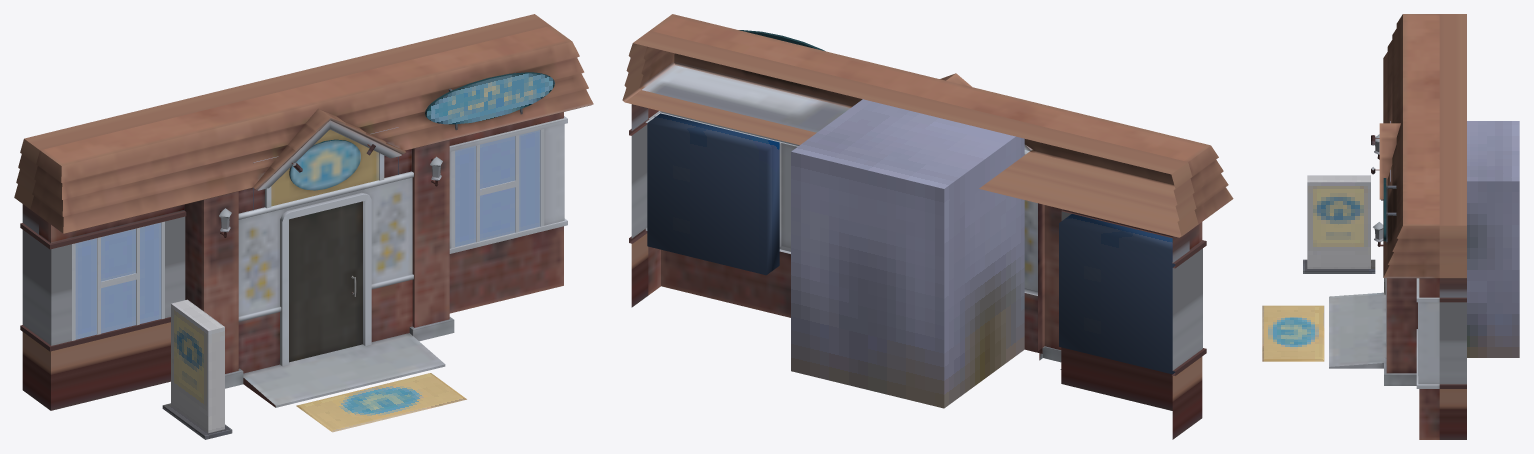
File: objects_un_motel01.gltf
The picture shows the model from 3 angles, left to right: view 1: azimuth 30°, elevation 25°; view 2: azimuth 150°, elevation 25°; view 3: azimuth 270°, elevation 25°; orthographic projection. The views are drawn at different scales.
Parts seen in each view (by area): view 1: nomerge_wall_shape:objects_un_motel01_obj01, nomerge_window_shape:objects_un_motel01_glass01, nomerge_door_shape:objects_un_motel01_obj01, nomerge_obj_shape:objects_un_motel01_obj01, nomerge_light_shape:objects_un_motel01_obj02, nomerge_obj_shape:objects_un_motel01_obj02, nomerge_sign_group_shape:objects_un_motel01_obj02, nomerge_window_shape:objects_un_motel01_obj02, nomerge_sign_group_shape:objects_un_motel01_obj01, nomerge_light_shape:objects_un_motel01_obj01; view 2: nomerge_wall_shape:objects_un_motel01_obj01, nomerge_objects_un_motel01_inside01_shape:objects_un_motel01, nomerge_window_shape:objects_un_motel01_obj02; view 3: nomerge_wall_shape:objects_un_motel01_obj01, nomerge_objects_un_motel01_inside01_shape:objects_un_motel01, nomerge_light_shape:objects_un_motel01_obj02, nomerge_obj_shape:objects_un_motel01_obj01, nomerge_obj_shape:objects_un_motel01_obj02, nomerge_light_shape:objects_un_motel01_obj01, nomerge_sign_group_shape:objects_un_motel01_obj02.
Boxes of the visible parts, bbox=[...] form: nomerge_wall_shape:objects_un_motel01_obj01: bbox=[14, 14, 593, 410]; nomerge_window_shape:objects_un_motel01_glass01: bbox=[75, 130, 540, 339]; nomerge_door_shape:objects_un_motel01_obj01: bbox=[289, 201, 362, 362]; nomerge_obj_shape:objects_un_motel01_obj01: bbox=[243, 333, 445, 407]; nomerge_light_shape:objects_un_motel01_obj02: bbox=[162, 299, 232, 439]; nomerge_obj_shape:objects_un_motel01_obj02: bbox=[296, 373, 466, 432]; nomerge_sign_group_shape:objects_un_motel01_obj02: bbox=[425, 72, 554, 130]; nomerge_window_shape:objects_un_motel01_obj02: bbox=[72, 129, 544, 340]; nomerge_sign_group_shape:objects_un_motel01_obj01: bbox=[289, 139, 360, 190]; nomerge_light_shape:objects_un_motel01_obj01: bbox=[219, 144, 442, 237]; nomerge_wall_shape:objects_un_motel01_obj01: bbox=[622, 14, 1233, 439]; nomerge_objects_un_motel01_inside01_shape:objects_un_motel01: bbox=[791, 99, 1024, 408]; nomerge_window_shape:objects_un_motel01_obj02: bbox=[647, 113, 1175, 374]; nomerge_wall_shape:objects_un_motel01_obj01: bbox=[1379, 14, 1466, 439]; nomerge_objects_un_motel01_inside01_shape:objects_un_motel01: bbox=[1390, 121, 1519, 357]; nomerge_light_shape:objects_un_motel01_obj02: bbox=[1303, 175, 1375, 273]; nomerge_obj_shape:objects_un_motel01_obj01: bbox=[1329, 292, 1386, 368]; nomerge_obj_shape:objects_un_motel01_obj02: bbox=[1262, 305, 1324, 361]; nomerge_light_shape:objects_un_motel01_obj01: bbox=[1371, 134, 1383, 246]; nomerge_sign_group_shape:objects_un_motel01_obj02: bbox=[1383, 178, 1396, 243].
Size of what is drawn, in the model's own units: 7.64 by 3.46 by 3.78.
4 materials, 4 textured.
